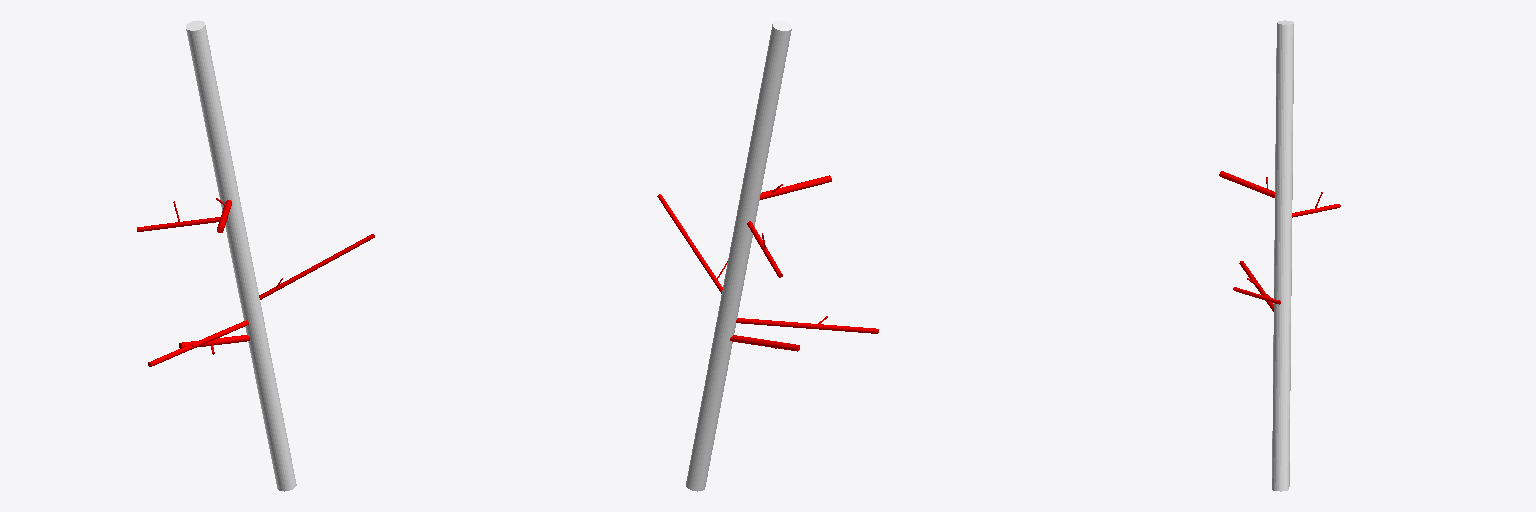
The robot description file, URDF, robot "tree_84.urdf":
<?xml version='1.0' encoding='UTF-8'?>
<robot name="tree_84.urdf">
  <link name="branch_0">
    <inertial>
      <origin xyz="0.0 0.0 0.0" rpy="0.0 -0.0 0.0"/>
      <mass value="0.1"/>
      <inertia ixx="0.001" ixy="0.0" ixz="0.0" iyy="0.001" iyz="0.0" izz="0.001"/>
    </inertial>
    <visual name="branch_0_visual">
      <geometry>
        <cylinder radius="0.13411345527998797" length="7.331863163386473"/>
      </geometry>
      <material name="branch_material"/>
      <origin xyz="-0.6957132776972242 0.03710345767112434 3.599119438184916" rpy="1.7322617301172665e-18 0.19121076009523091 3.088311594328847"/>
    </visual>
    <collision name="branch_0_collision">
      <geometry>
        <cylinder radius="0.13411345527998797" length="7.331863163386473"/>
      </geometry>
      <origin xyz="-0.6957132776972242 0.03710345767112434 3.599119438184916" rpy="1.7322617301172665e-18 0.19121076009523091 3.088311594328847"/>
    </collision>
  </link>
  <link name="branch_1">
    <inertial>
      <origin xyz="0.0 0.0 0.0" rpy="0.0 -0.0 0.0"/>
      <mass value="0.1"/>
      <inertia ixx="0.001" ixy="0.0" ixz="0.0" iyy="0.001" iyz="0.0" izz="0.001"/>
    </inertial>
    <visual name="branch_1_visual">
      <geometry>
        <cylinder radius="0.036095683590371554" length="2.0874533030773326"/>
      </geometry>
      <material name="semantic_material"/>
      <origin xyz="0.0 0.0 0.0" rpy="0.0 -0.0 0.0"/>
    </visual>
    <collision name="branch_1_collision">
      <geometry>
        <cylinder radius="0.036095683590371554" length="2.0874533030773326"/>
      </geometry>
      <origin xyz="0.0 0.0 0.0" rpy="0.0 -0.0 0.0"/>
    </collision>
  </link>
  <link name="branch_2">
    <inertial>
      <origin xyz="0.0 0.0 0.0" rpy="0.0 -0.0 0.0"/>
      <mass value="0.1"/>
      <inertia ixx="0.001" ixy="0.0" ixz="0.0" iyy="0.001" iyz="0.0" izz="0.001"/>
    </inertial>
    <visual name="branch_2_visual">
      <geometry>
        <cylinder radius="0.01334065300260908" length="0.21236265032681584"/>
      </geometry>
      <material name="semantic_material"/>
      <origin xyz="0.0 0.0 0.0" rpy="0.0 -0.0 0.0"/>
    </visual>
    <collision name="branch_2_collision">
      <geometry>
        <cylinder radius="0.01334065300260908" length="0.21236265032681584"/>
      </geometry>
      <origin xyz="0.0 0.0 0.0" rpy="0.0 -0.0 0.0"/>
    </collision>
  </link>
  <link name="branch_3">
    <inertial>
      <origin xyz="0.0 0.0 0.0" rpy="0.0 -0.0 0.0"/>
      <mass value="0.1"/>
      <inertia ixx="0.001" ixy="0.0" ixz="0.0" iyy="0.001" iyz="0.0" izz="0.001"/>
    </inertial>
    <visual name="branch_3_visual">
      <geometry>
        <cylinder radius="0.03431041361241549" length="1.3563068350536798"/>
      </geometry>
      <material name="semantic_material"/>
      <origin xyz="0.0 0.0 0.0" rpy="0.0 -0.0 0.0"/>
    </visual>
    <collision name="branch_3_collision">
      <geometry>
        <cylinder radius="0.03431041361241549" length="1.3563068350536798"/>
      </geometry>
      <origin xyz="0.0 0.0 0.0" rpy="0.0 -0.0 0.0"/>
    </collision>
  </link>
  <link name="branch_4">
    <inertial>
      <origin xyz="0.0 0.0 0.0" rpy="0.0 -0.0 0.0"/>
      <mass value="0.1"/>
      <inertia ixx="0.001" ixy="0.0" ixz="0.0" iyy="0.001" iyz="0.0" izz="0.001"/>
    </inertial>
    <visual name="branch_4_visual">
      <geometry>
        <cylinder radius="0.011720228534630568" length="0.32337261437958637"/>
      </geometry>
      <material name="semantic_material"/>
      <origin xyz="0.0 0.0 0.0" rpy="0.0 -0.0 0.0"/>
    </visual>
    <collision name="branch_4_collision">
      <geometry>
        <cylinder radius="0.011720228534630568" length="0.32337261437958637"/>
      </geometry>
      <origin xyz="0.0 0.0 0.0" rpy="0.0 -0.0 0.0"/>
    </collision>
  </link>
  <link name="branch_5">
    <inertial>
      <origin xyz="0.0 0.0 0.0" rpy="0.0 -0.0 0.0"/>
      <mass value="0.1"/>
      <inertia ixx="0.001" ixy="0.0" ixz="0.0" iyy="0.001" iyz="0.0" izz="0.001"/>
    </inertial>
    <visual name="branch_5_visual">
      <geometry>
        <cylinder radius="0.04712695546157789" length="1.1899430607374084"/>
      </geometry>
      <material name="semantic_material"/>
      <origin xyz="0.0 0.0 0.0" rpy="0.0 -0.0 0.0"/>
    </visual>
    <collision name="branch_5_collision">
      <geometry>
        <cylinder radius="0.04712695546157789" length="1.1899430607374084"/>
      </geometry>
      <origin xyz="0.0 0.0 0.0" rpy="0.0 -0.0 0.0"/>
    </collision>
  </link>
  <link name="branch_6">
    <inertial>
      <origin xyz="0.0 0.0 0.0" rpy="0.0 -0.0 0.0"/>
      <mass value="0.1"/>
      <inertia ixx="0.001" ixy="0.0" ixz="0.0" iyy="0.001" iyz="0.0" izz="0.001"/>
    </inertial>
    <visual name="branch_6_visual">
      <geometry>
        <cylinder radius="0.012666798316958168" length="0.25100383307906304"/>
      </geometry>
      <material name="semantic_material"/>
      <origin xyz="0.0 0.0 0.0" rpy="0.0 -0.0 0.0"/>
    </visual>
    <collision name="branch_6_collision">
      <geometry>
        <cylinder radius="0.012666798316958168" length="0.25100383307906304"/>
      </geometry>
      <origin xyz="0.0 0.0 0.0" rpy="0.0 -0.0 0.0"/>
    </collision>
  </link>
  <link name="branch_7">
    <inertial>
      <origin xyz="0.0 0.0 0.0" rpy="0.0 -0.0 0.0"/>
      <mass value="0.1"/>
      <inertia ixx="0.001" ixy="0.0" ixz="0.0" iyy="0.001" iyz="0.0" izz="0.001"/>
    </inertial>
    <visual name="branch_7_visual">
      <geometry>
        <cylinder radius="0.031400833310166174" length="1.9336267288280613"/>
      </geometry>
      <material name="semantic_material"/>
      <origin xyz="0.0 0.0 0.0" rpy="0.0 -0.0 0.0"/>
    </visual>
    <collision name="branch_7_collision">
      <geometry>
        <cylinder radius="0.031400833310166174" length="1.9336267288280613"/>
      </geometry>
      <origin xyz="0.0 0.0 0.0" rpy="0.0 -0.0 0.0"/>
    </collision>
  </link>
  <link name="branch_8">
    <inertial>
      <origin xyz="0.0 0.0 0.0" rpy="0.0 -0.0 0.0"/>
      <mass value="0.1"/>
      <inertia ixx="0.001" ixy="0.0" ixz="0.0" iyy="0.001" iyz="0.0" izz="0.001"/>
    </inertial>
    <visual name="branch_8_visual">
      <geometry>
        <cylinder radius="0.010089445407161418" length="0.4845866550251063"/>
      </geometry>
      <material name="semantic_material"/>
      <origin xyz="0.0 0.0 0.0" rpy="0.0 -0.0 0.0"/>
    </visual>
    <collision name="branch_8_collision">
      <geometry>
        <cylinder radius="0.010089445407161418" length="0.4845866550251063"/>
      </geometry>
      <origin xyz="0.0 0.0 0.0" rpy="0.0 -0.0 0.0"/>
    </collision>
  </link>
  <link name="branch_9">
    <inertial>
      <origin xyz="0.0 0.0 0.0" rpy="0.0 -0.0 0.0"/>
      <mass value="0.1"/>
      <inertia ixx="0.001" ixy="0.0" ixz="0.0" iyy="0.001" iyz="0.0" izz="0.001"/>
    </inertial>
    <visual name="branch_9_visual">
      <geometry>
        <cylinder radius="0.04578213476503313" length="1.1897051803962468"/>
      </geometry>
      <material name="semantic_material"/>
      <origin xyz="0.0 0.0 0.0" rpy="0.0 -0.0 0.0"/>
    </visual>
    <collision name="branch_9_collision">
      <geometry>
        <cylinder radius="0.04578213476503313" length="1.1897051803962468"/>
      </geometry>
      <origin xyz="0.0 0.0 0.0" rpy="0.0 -0.0 0.0"/>
    </collision>
  </link>
  <link name="branch_10">
    <inertial>
      <origin xyz="0.0 0.0 0.0" rpy="0.0 -0.0 0.0"/>
      <mass value="0.1"/>
      <inertia ixx="0.001" ixy="0.0" ixz="0.0" iyy="0.001" iyz="0.0" izz="0.001"/>
    </inertial>
    <visual name="branch_10_visual">
      <geometry>
        <cylinder radius="0.017262141201822356" length="0.18122814682084923"/>
      </geometry>
      <material name="semantic_material"/>
      <origin xyz="0.0 0.0 0.0" rpy="0.0 -0.0 0.0"/>
    </visual>
    <collision name="branch_10_collision">
      <geometry>
        <cylinder radius="0.017262141201822356" length="0.18122814682084923"/>
      </geometry>
      <origin xyz="0.0 0.0 0.0" rpy="0.0 -0.0 0.0"/>
    </collision>
  </link>
  <joint name="joint_0_1" type="fixed">
    <parent link="branch_0"/>
    <child link="branch_1"/>
    <axis xyz="1. 0. 0."/>
    <origin xyz="-1.499332073470073 -0.28350953542961693 2.6232355805607215" rpy="1.2817953247116152 1.5003997496340258 -1.5571573834276458"/>
  </joint>
  <joint name="joint_0_3" type="fixed">
    <parent link="branch_0"/>
    <child link="branch_3"/>
    <axis xyz="1. 0. 0."/>
    <origin xyz="-1.3221596922697394 0.4659964714894146 4.054886068253082" rpy="-2.655101228745398 1.3314153980369587 -0.19272203286807948"/>
  </joint>
  <joint name="joint_0_5" type="fixed">
    <parent link="branch_0"/>
    <child link="branch_5"/>
    <axis xyz="1. 0. 0."/>
    <origin xyz="-1.2192546084702658 -0.43104930721508933 4.527689017119149" rpy="1.140734867819089 1.3929922549534006 -1.0602558484246056"/>
  </joint>
  <joint name="joint_0_7" type="fixed">
    <parent link="branch_0"/>
    <child link="branch_7"/>
    <axis xyz="1. 0. 0."/>
    <origin xyz="0.20607299842137938 -0.33284814887633807 3.3408307761574827" rpy="0.13531930342477563 1.0517881021027353 -0.2894024675634646"/>
  </joint>
  <joint name="joint_0_9" type="fixed">
    <parent link="branch_0"/>
    <child link="branch_9"/>
    <axis xyz="1. 0. 0."/>
    <origin xyz="-1.0427669278929275 0.0433896072359836 2.396264190684121" rpy="0.039617526843348176 1.467742128069095 -3.134415996485487"/>
  </joint>
  <joint name="joint_1_2" type="fixed">
    <parent link="branch_0"/>
    <child link="branch_2"/>
    <axis xyz="1. 0. 0."/>
    <origin xyz="-1.7188307469247013 -0.4254509966544921 2.6773869829280947" rpy="1.0463115493709025 -0.327837852483 -0.23458782199298808"/>
  </joint>
  <joint name="joint_3_4" type="fixed">
    <parent link="branch_0"/>
    <child link="branch_4"/>
    <axis xyz="1. 0. 0."/>
    <origin xyz="-1.3928240575664967 0.573780459950355 4.1884636944808085" rpy="-0.24417207409207017 -0.3025450162718626 -0.6680309955560519"/>
  </joint>
  <joint name="joint_5_6" type="fixed">
    <parent link="branch_0"/>
    <child link="branch_6"/>
    <axis xyz="1. 0. 0."/>
    <origin xyz="-1.1347257532259247 -0.2031388426790884 4.593777831273329" rpy="-0.7320078699952095 -0.3486122152224497 1.292149375692247"/>
  </joint>
  <joint name="joint_7_8" type="fixed">
    <parent link="branch_0"/>
    <child link="branch_8"/>
    <axis xyz="1. 0. 0."/>
    <origin xyz="-0.29141531806056215 -0.2903196015094395 3.22000392394596" rpy="-0.8128776761837224 0.20761087479833396 3.0888401532676246"/>
  </joint>
  <joint name="joint_9_10" type="fixed">
    <parent link="branch_0"/>
    <child link="branch_10"/>
    <axis xyz="1. 0. 0."/>
    <origin xyz="-1.182305763234825 -0.022986262537130625 2.3555562673512687" rpy="2.20795231651982 0.1982337890345729 -0.16003767773304536"/>
  </joint>
  <material name="branch_material">
    <color rgba="1. 1. 1. 1."/>
  </material>
  <material name="semantic_material">
    <color rgba="1. 0. 0. 1."/>
  </material>
</robot>

--- Render facts (derived) ---
The picture shows the robot from 3 angles, left to right: view 1: azimuth 30°, elevation 25°; view 2: azimuth 150°, elevation 25°; view 3: azimuth 270°, elevation 25°; orthographic projection.
Robot: tree_84.urdf — 11 links, 10 joints (10 fixed); root link branch_0; default pose: all joints at 0.
Links seen in each view (by area): view 1: branch_0, branch_7, branch_1; view 2: branch_0, branch_1, branch_7; view 3: branch_0.
Link boxes in pixels (<box>): branch_0: <box>186,20,296,491</box>; branch_7: <box>259,234,374,299</box>; branch_1: <box>148,320,248,366</box>; branch_0: <box>686,20,791,491</box>; branch_1: <box>736,318,878,333</box>; branch_7: <box>657,194,722,293</box>; branch_0: <box>1272,20,1293,491</box>.
Bounding box of the posed robot: 3.49 × 1.85 × 7.25 m (x, y, z).
Geometry: primitives only (box / cylinder / sphere), no mesh files.